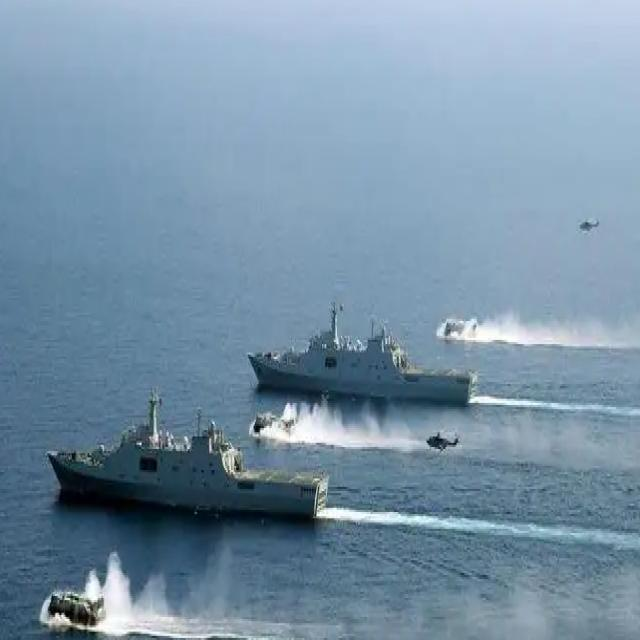houseboat: (45, 568, 105, 623), (246, 400, 298, 443)
navalvessels: (46, 384, 328, 526), (245, 308, 475, 405)
